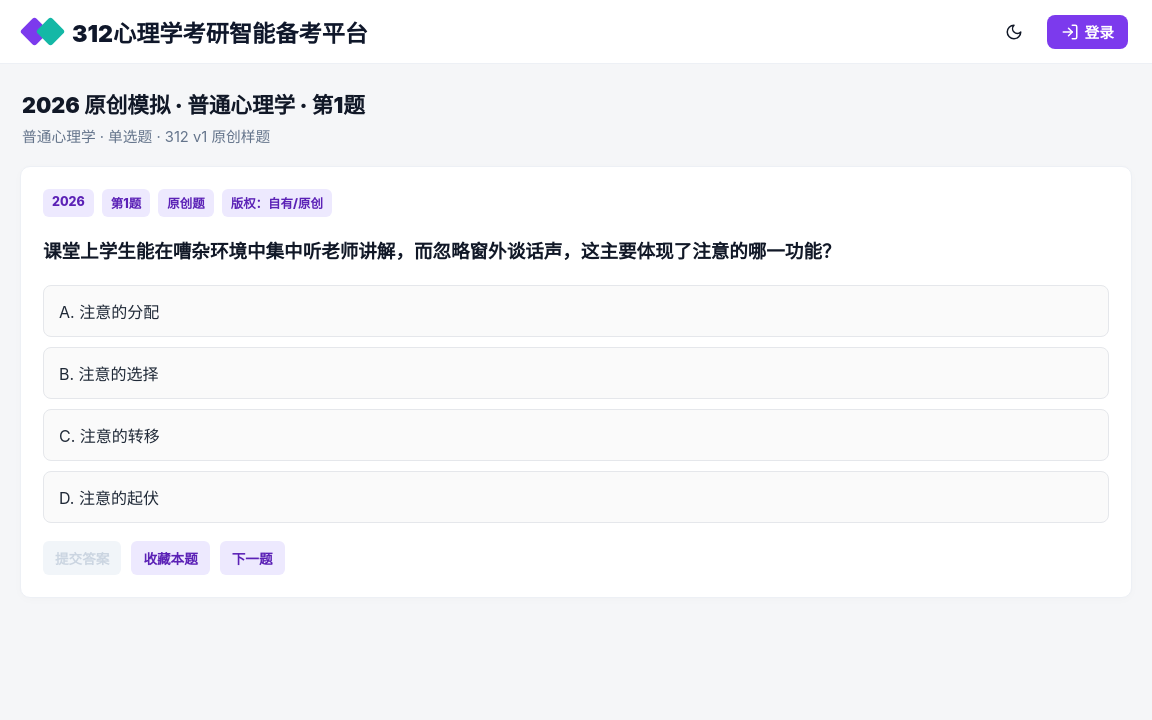
it: 312 dashboard › opens a question, submits an answer, and shows explanation feedback
Expected: the heading "2026 原创模拟 · 普通心理学 · 第1题" is shown, [22, 92, 365, 118]
Click the button "B. 注意的选择" at (119, 374), box [43, 348, 1109, 400]
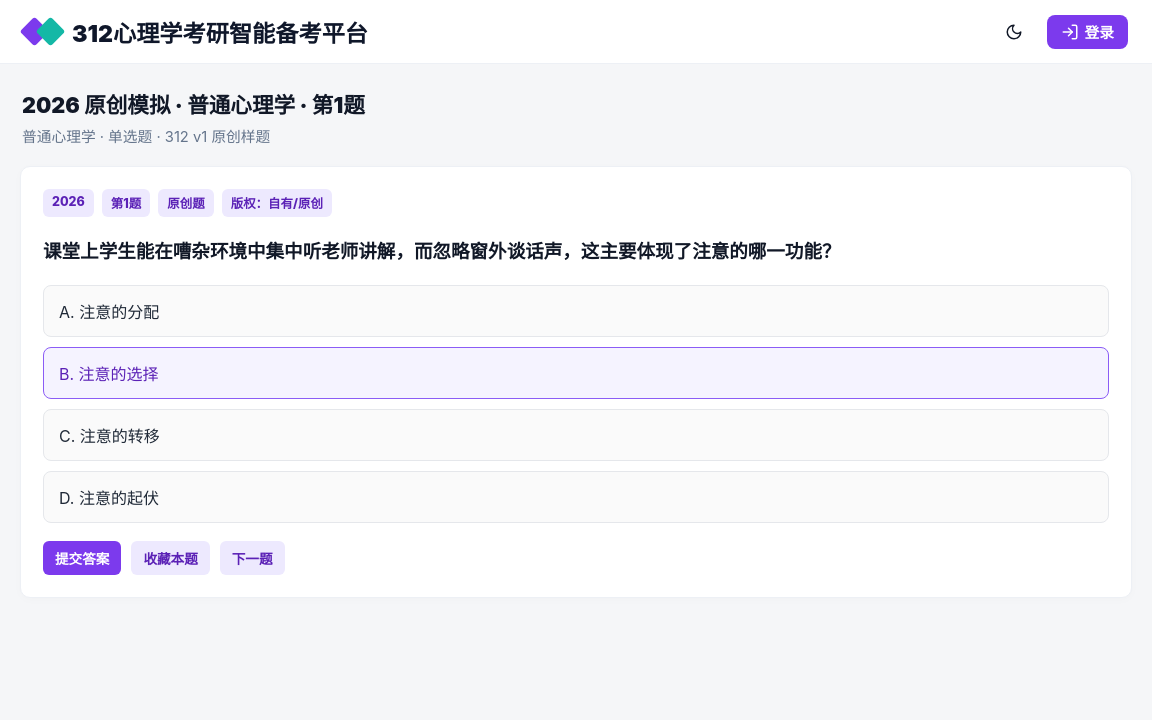
Click the button "提交答案" at (82, 558), box [43, 542, 121, 576]
(page scrolled)
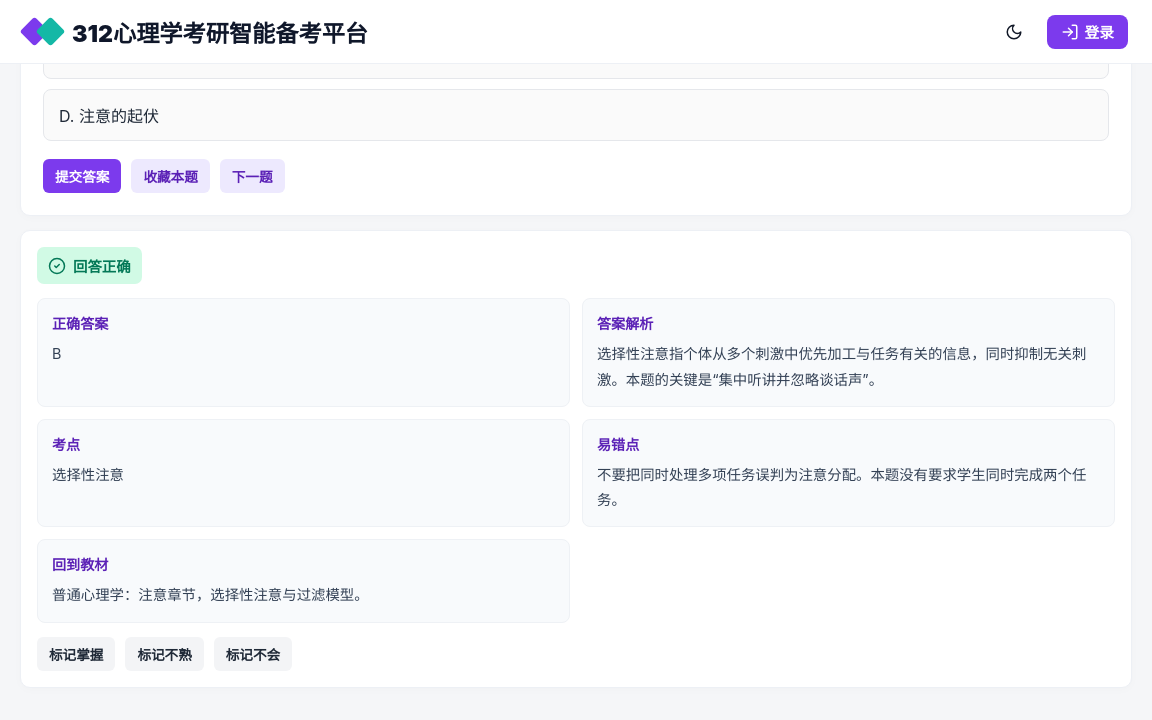
Expected: the text "回答正确" is shown, [37, 248, 142, 284]
Expected: the heading "答案解析" is shown, [597, 316, 653, 332]
Expected: the heading "考点" is shown, [52, 436, 80, 453]
